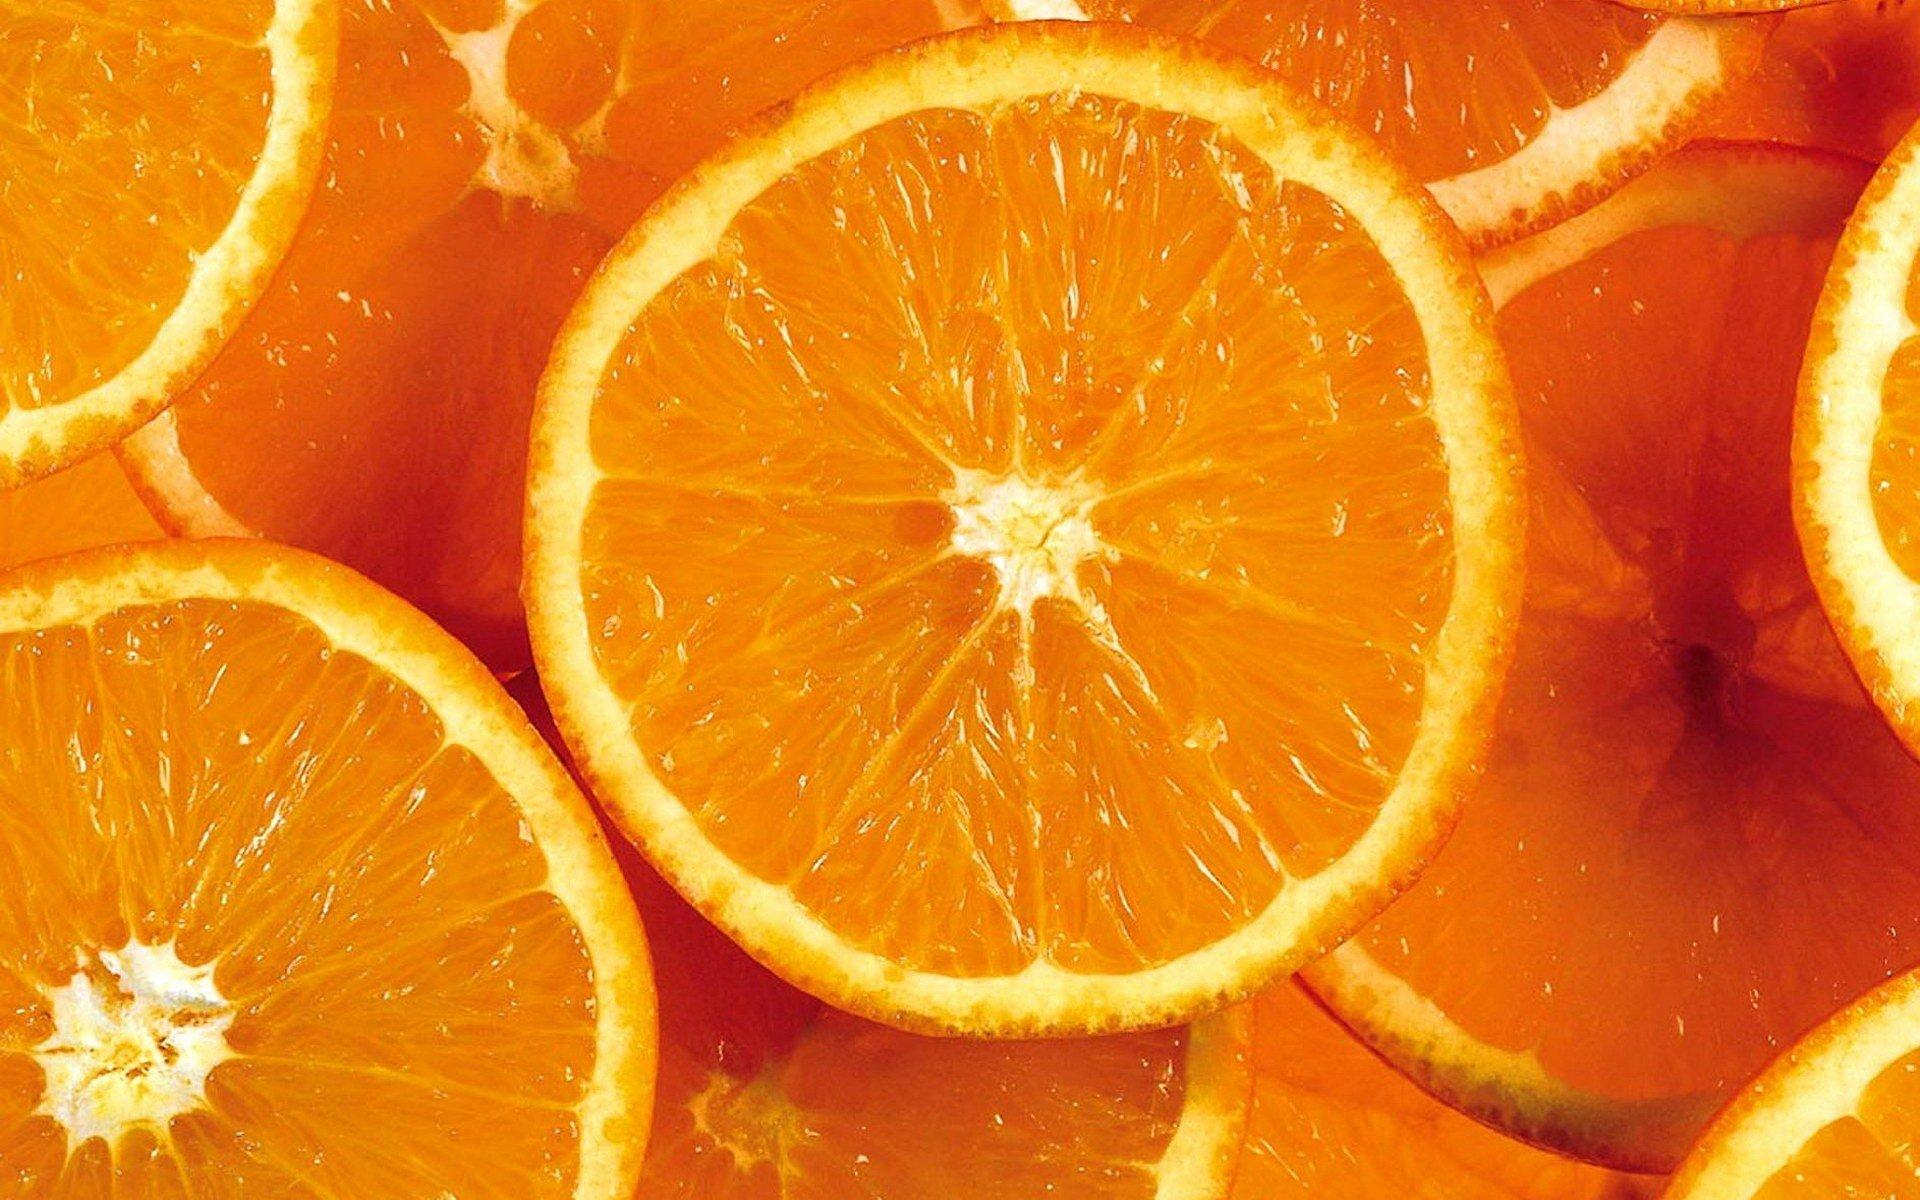Orange: (505, 65, 1558, 1067)
